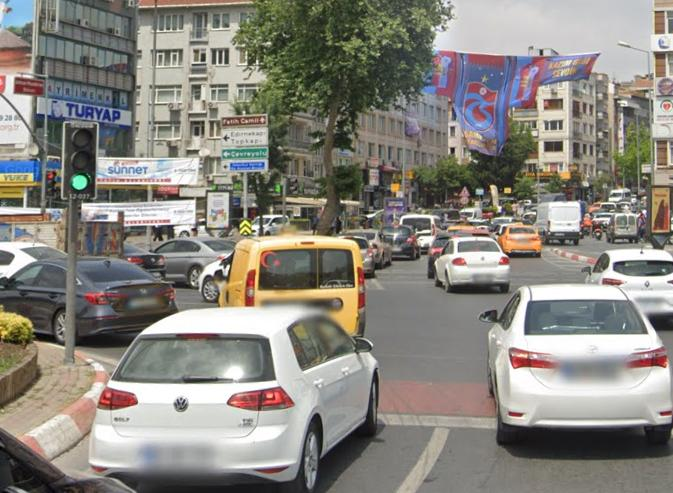greenlight: (65, 121, 99, 196)
